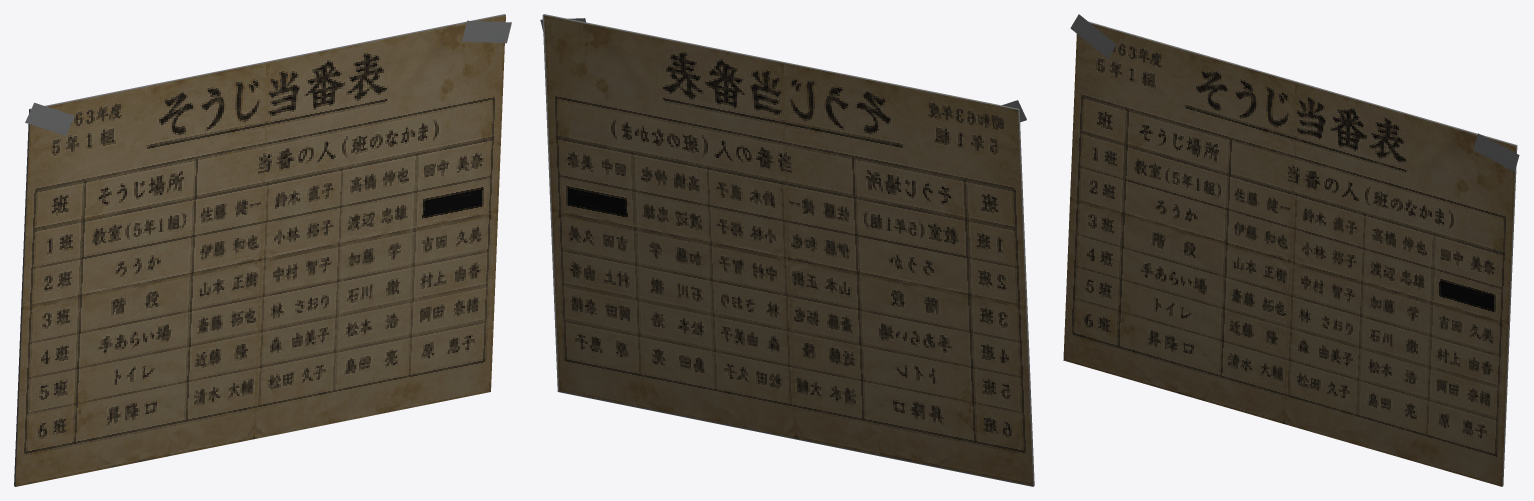
File: prop_poster-touban-5.glb
The picture shows the model from 3 angles, left to right: view 1: azimuth 30°, elevation 25°; view 2: azimuth 150°, elevation 25°; view 3: azimuth 330°, elevation 25°; orthographic projection. The views are drawn at different scales.
Visible parts, largest first — view 1: prop_poster-touban-5; view 2: prop_poster-touban-5; view 3: prop_poster-touban-5.
Boxes of the visible parts, x1,y1,x2,y2 form: prop_poster-touban-5: (14, 14, 511, 486); prop_poster-touban-5: (540, 14, 1034, 486); prop_poster-touban-5: (1063, 14, 1519, 486).
Bounding box in the file's own units: 0.6395 × 0.4956 × 0.0055.
Materials: 2 (2 with a texture image).
